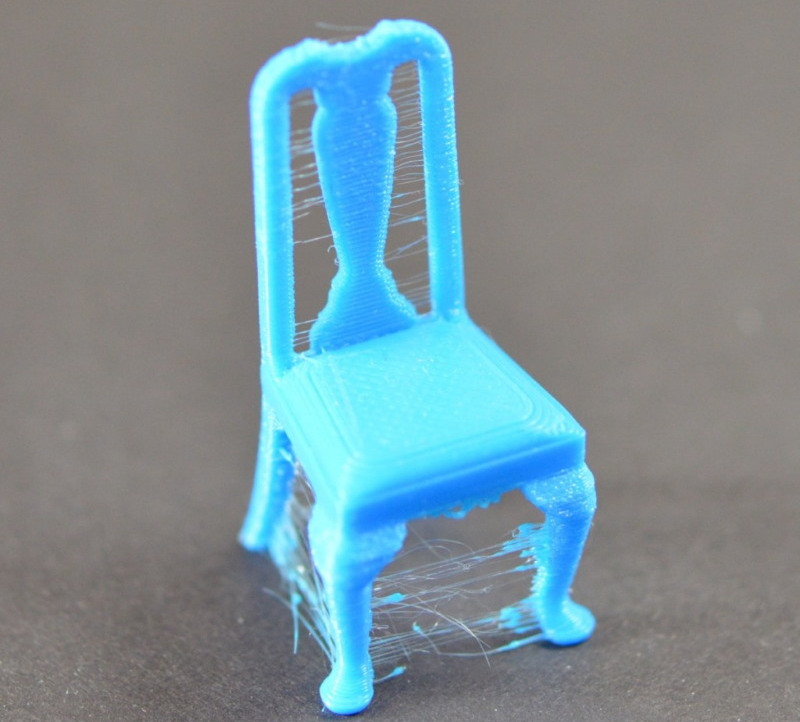Stringing or Oozing: (357, 568, 540, 683), (290, 87, 343, 368), (280, 451, 332, 677)
